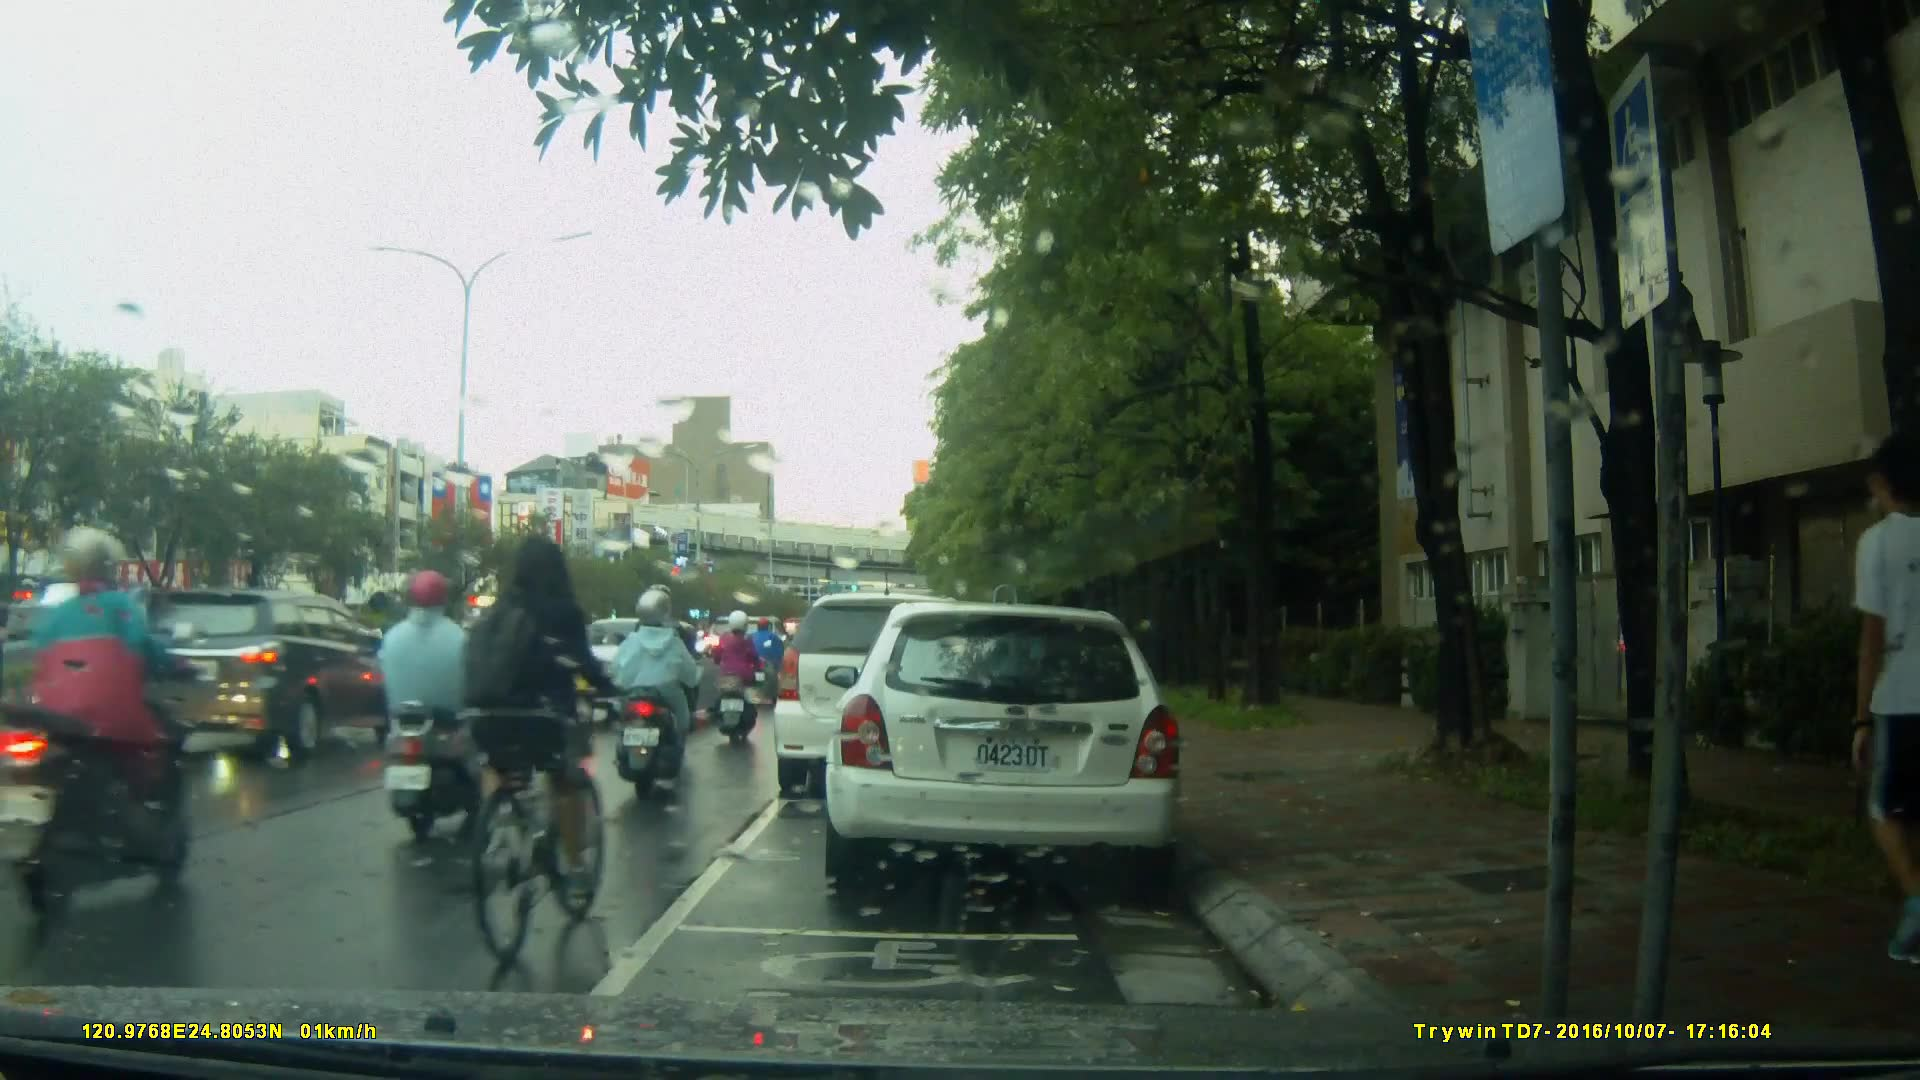pedestrian: (1823, 463, 1920, 979)
rider: (12, 516, 205, 917), (482, 533, 627, 946), (382, 567, 494, 853), (626, 587, 705, 792), (523, 592, 608, 779), (626, 586, 710, 771), (464, 604, 539, 753), (707, 616, 766, 752), (738, 610, 783, 689)
vehicle: (822, 604, 1188, 883), (111, 586, 415, 761), (774, 595, 995, 802)
